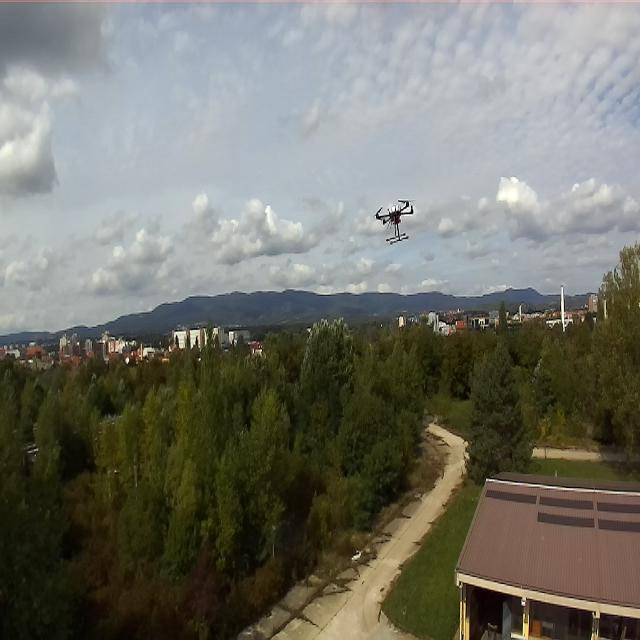UAV: (370, 191, 418, 244)
